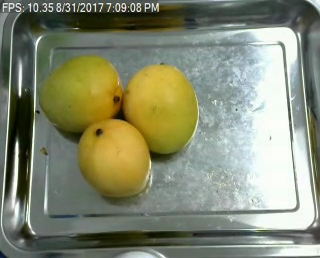Mango: (123, 63, 198, 154), (39, 55, 121, 133), (76, 119, 151, 196)
